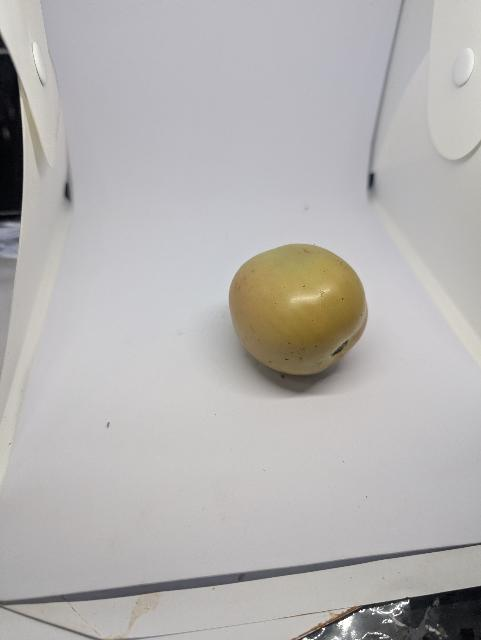turning: (224, 239, 374, 381)
